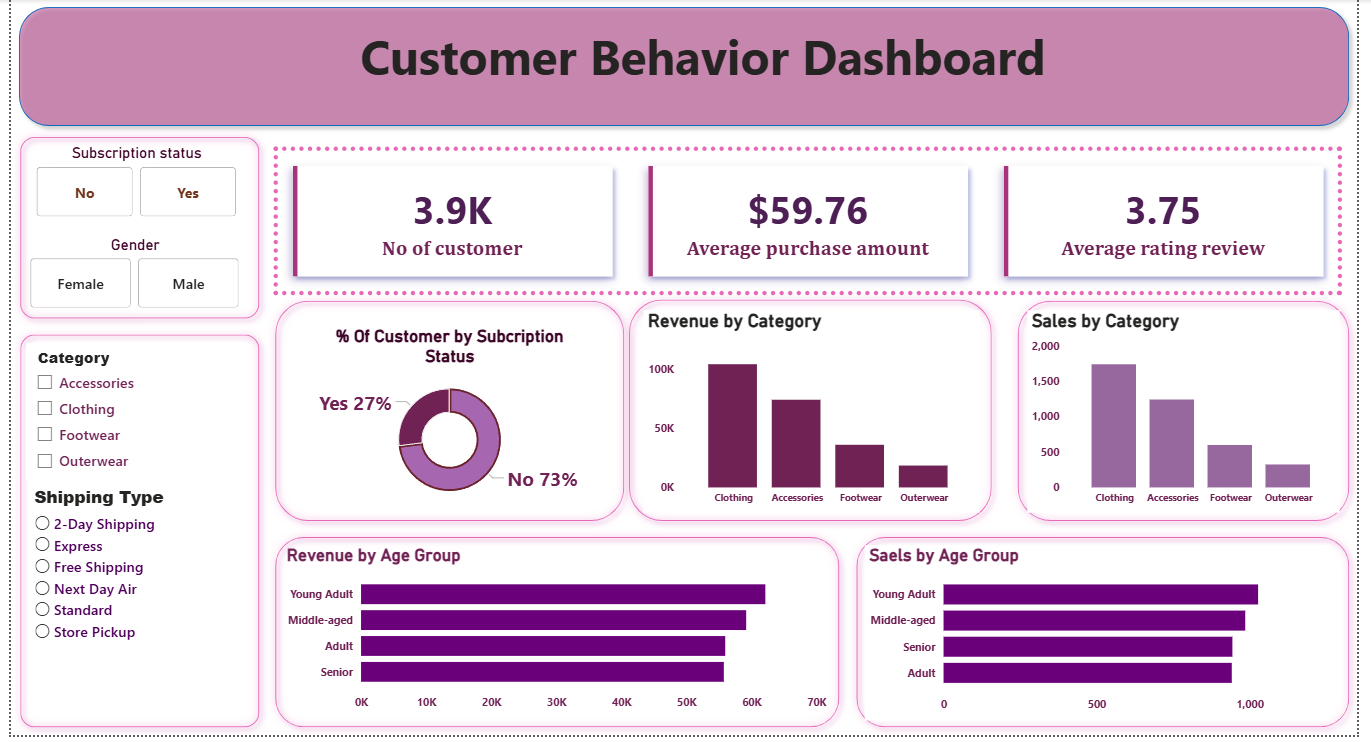

Layout of this report page (visuals, bound fields, positions):
{"tool":"powerbi","page":{"name":"Page 1","canvas":[1500,820],"ordinal":0},"visuals":[{"type":"cardVisual","fields":{"Data":["customer.No of customer","customer.Average purchase amount","customer.Average rating review"]},"box":[275.7,147.6,1224.2,199.2],"z":0},{"type":"shape","box":[0,0,1499.9,150.4],"z":1000},{"type":"textbox","box":[221.4,22.3,1098.8,105.8],"z":2000},{"type":"shape","box":[1112.7,327.3,387.2,263.2],"z":3000},{"type":"donutChart","title":" % Of Customer by Subcription Status","fields":{"Y":["CountNonNull(customer.customer_id)"],"Category":["customer.subscription_status"]},"box":[313.4,364.9,351,204.7],"z":4000},{"type":"shape","box":[285.5,327.3,406.7,263.2],"z":5000},{"type":"shape","box":[679.6,325.9,422,264.6],"z":6000},{"type":"clusteredColumnChart","title":"     Revenue by Category","fields":{"Category":["customer.category"],"Y":["Sum(customer.purchase_amount)"]},"box":[704.7,346.8,374.6,225.6],"z":7000},{"type":"clusteredColumnChart","title":"Sales by Category","fields":{"Category":["customer.category"],"Y":["CountNonNull(customer.item_purchased)"]},"box":[1132.2,346.8,348.2,225.6],"z":8000},{"type":"clusteredBarChart","title":"Revenue by Age Group","fields":{"Y":["Sum(customer.purchase_amount)"],"Category":["customer.age_group"]},"box":[302.2,608.6,611.4,193.6],"z":9000},{"type":"shape","box":[285.5,590.5,646.2,229.8],"z":10000},{"type":"shape","box":[933.1,590.5,566.8,229.8],"z":11000},{"type":"clusteredBarChart","title":"Saels by Age Group","fields":{"Category":["customer.age_group"],"Y":["CountNonNull(customer.purchase_amount)"]},"box":[951.2,608.6,518.1,195],"z":12000},{"type":"shape","box":[1.4,144.8,284.1,220],"z":13000},{"type":"shape","box":[1.4,364.9,284.1,455.4],"z":14000},{"type":"advancedSlicerVisual","title":"Subscription status","fields":{"Values":["customer.subscription_status"]},"box":[23.7,161.5,232.6,86.3],"z":14001},{"type":"advancedSlicerVisual","title":"Gender","fields":{"Values":["customer.gender"]},"box":[16.7,263.2,243.7,86.3],"z":14002},{"type":"slicer","fields":{"Values":["customer.category"]},"box":[16.7,383,243.7,151.8],"z":14003},{"type":"listSlicer","title":"Shipping Type","fields":{"Values":["customer.shipping_type"]},"box":[20.9,540.4,214.5,231.2],"z":14004}]}

Visuals, with their boxes in screenshot pixels (x1, y1, x2, y2), scaled from the page's 1500x820 canvas onto the 1371x743 screenshot:
cardVisual - customer.No of customer x customer.Average purchase amount: region(252, 134, 1370, 314)
shape: region(0, 0, 1370, 136)
textbox: region(202, 20, 1207, 116)
shape: region(1017, 297, 1370, 535)
" % Of Customer by Subcription Status" donutChart: region(286, 331, 607, 516)
shape: region(261, 297, 633, 535)
shape: region(621, 295, 1007, 535)
"     Revenue by Category" clusteredColumnChart: region(644, 314, 986, 519)
"Sales by Category" clusteredColumnChart: region(1035, 314, 1353, 519)
"Revenue by Age Group" clusteredBarChart: region(276, 551, 835, 727)
shape: region(261, 535, 852, 742)
shape: region(853, 535, 1370, 742)
"Saels by Age Group" clusteredBarChart: region(869, 551, 1343, 728)
shape: region(1, 131, 261, 331)
shape: region(1, 331, 261, 742)
"Subscription status" advancedSlicerVisual: region(22, 146, 234, 225)
"Gender" advancedSlicerVisual: region(15, 238, 238, 317)
slicer - customer.category: region(15, 347, 238, 485)
"Shipping Type" listSlicer: region(19, 490, 215, 699)
